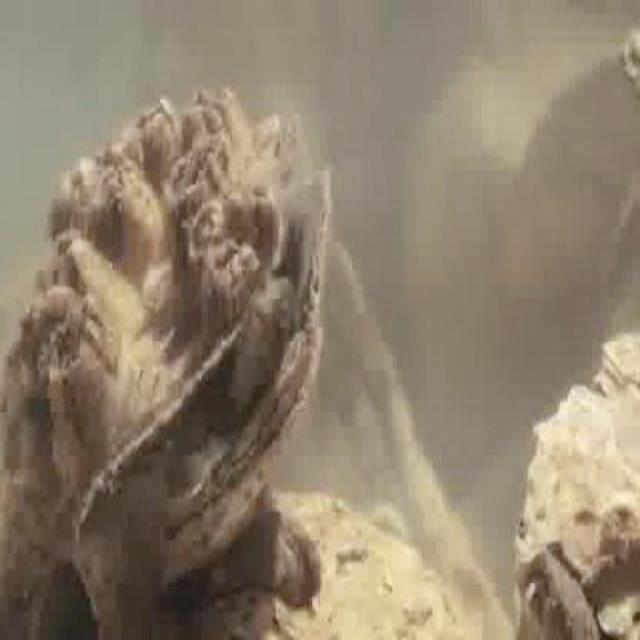Oyster-Closed: (198, 489, 477, 640), (516, 384, 640, 636), (184, 507, 320, 604), (601, 331, 640, 389), (623, 27, 640, 87)
Oyster-Open: (2, 80, 329, 576), (517, 549, 603, 640)
